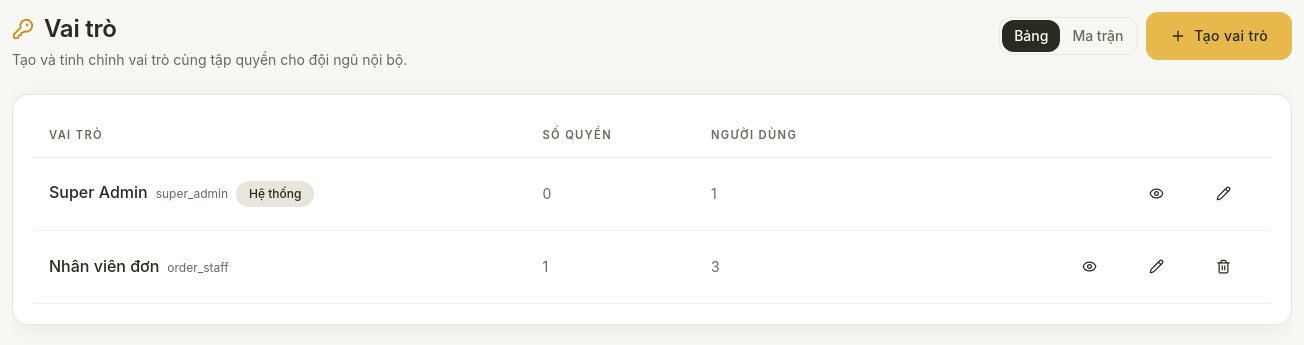
Test: AdminRolesPage › toggle sang Ma trận hiển thị lưới, toggle về Bảng quay lại danh sách
This screenshot has width=1304, height=345.
Check: the column heading "Số quyền" is shown, box [526,115,695,157]
Step 1. Click the button "Ma trận" → point(1098, 36), box [1060,20,1135,52]
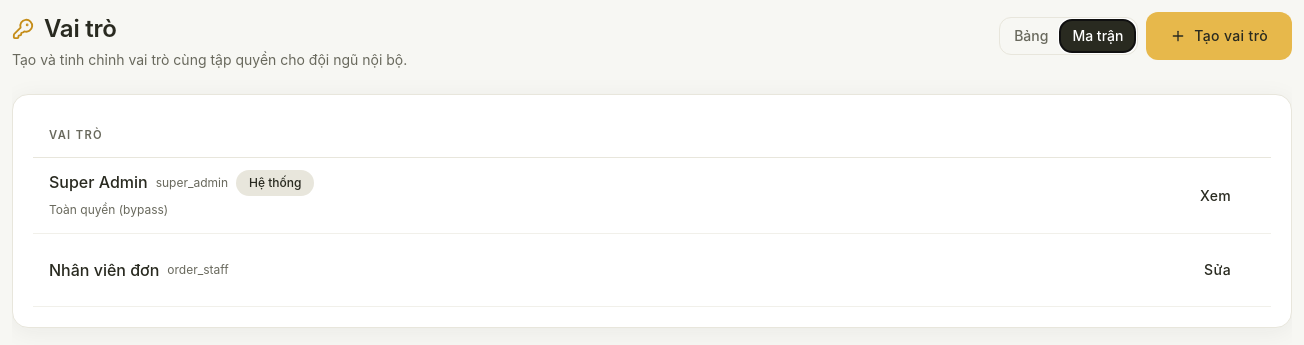
Check: the text "Toàn quyền (bypass)" is shown, box [49,202,168,217]
Check: the column heading "Số quyền" is gone
Step 2. Click the button "Bảng" → point(1031, 36), box [1002,20,1060,52]
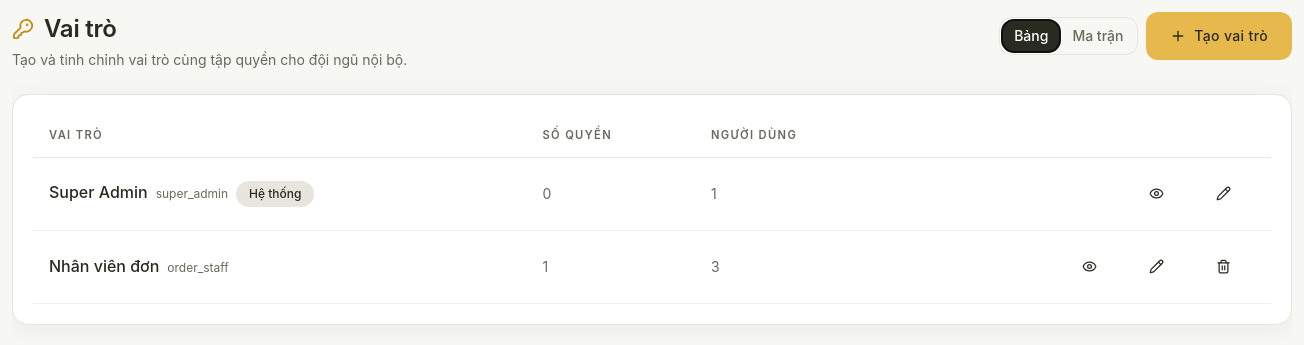
Check: the column heading "Số quyền" is shown, box [526,115,695,157]
